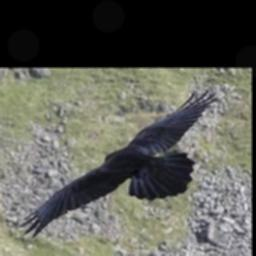Crow: (17, 90, 218, 239)
